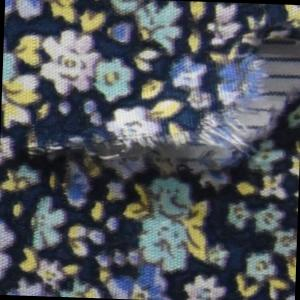Damage: (1, 8, 300, 195)
